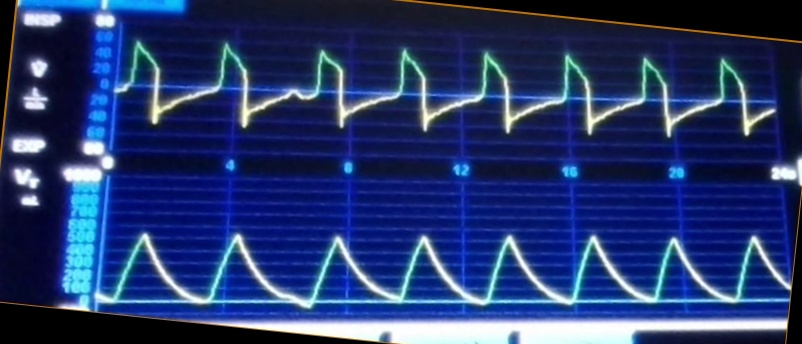Ineffective_effort Flow: (120, 39, 772, 141)
Ineffective_effort Volume: (100, 206, 787, 314)
